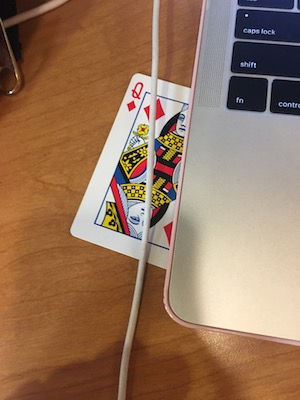QueenOfDiamonds: (56, 68, 204, 279)
